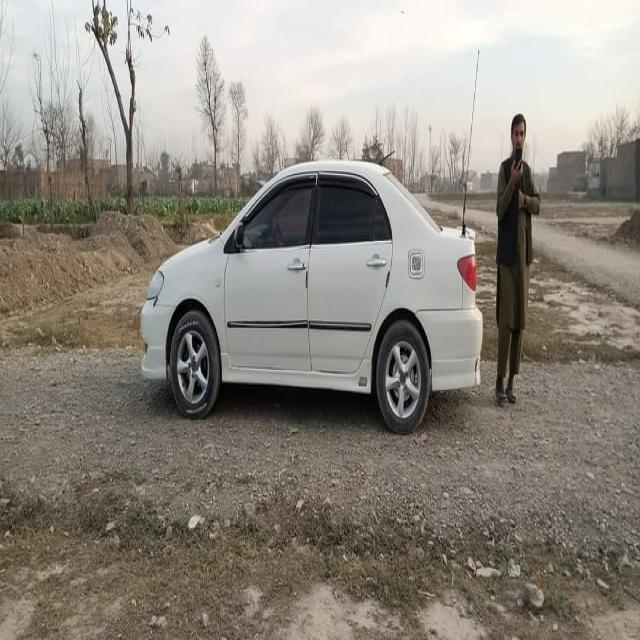white: (141, 159, 484, 411)
